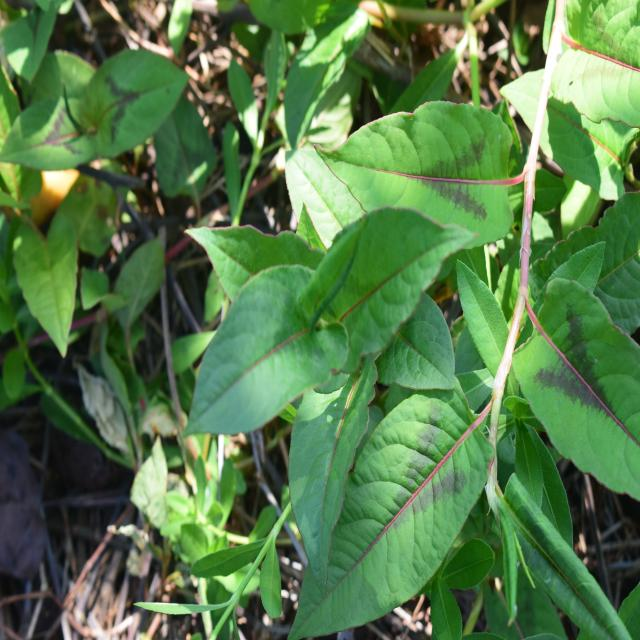Chinese_knotweed: (214, 186, 488, 601)
